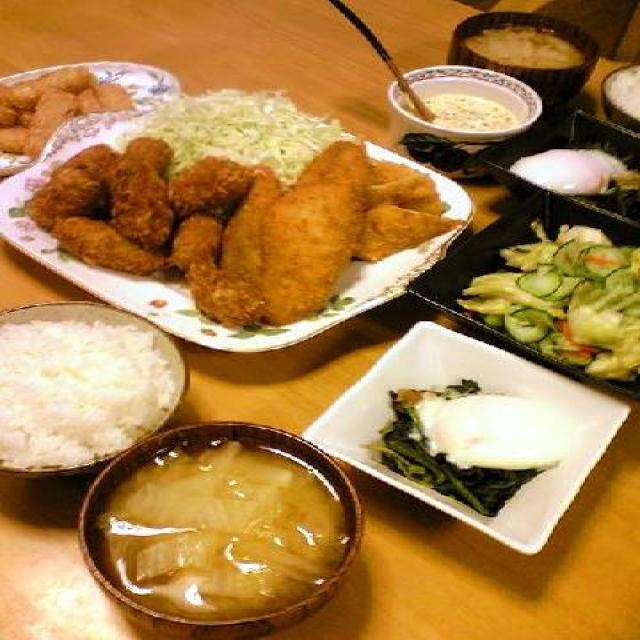炸货点心: (32, 128, 427, 324)
熟制海鲜: (32, 128, 427, 324)
